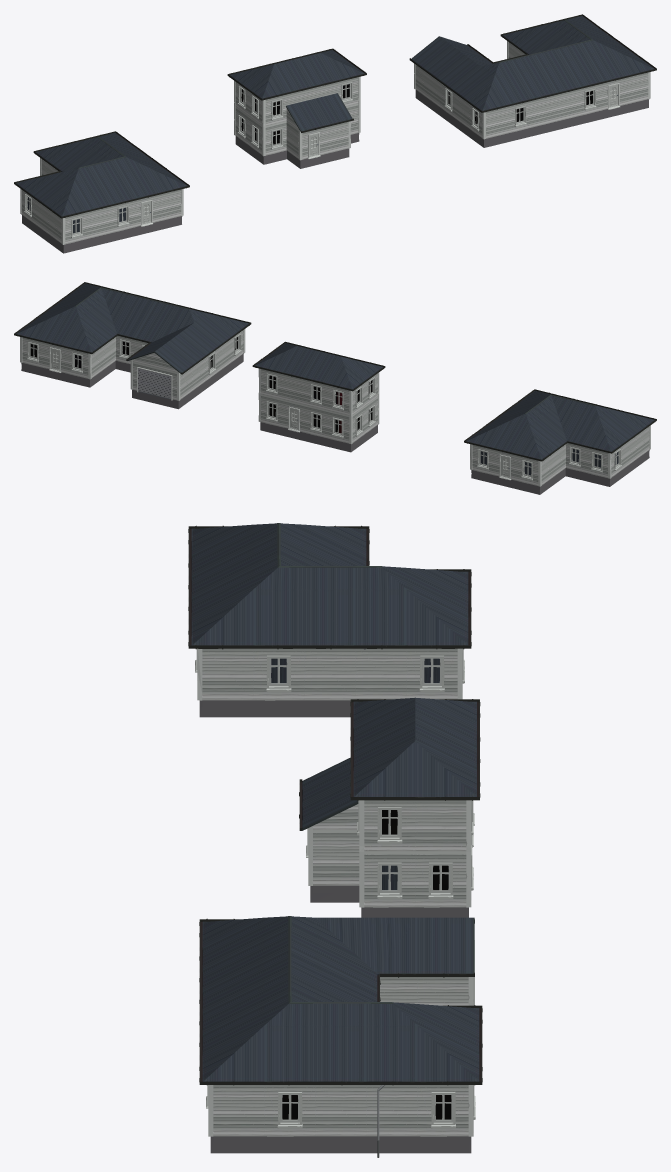
The model's file is suburbia-fixwindowuvs-only3-draco.glb.
3 renders of one model, top to bottom at view 1: azimuth 30°, elevation 25°; view 2: azimuth 150°, elevation 25°; view 3: azimuth 270°, elevation 25°, orthographic. The views are drawn at different scales.
Visible parts, largest first — view 1: SM_Bld_House_Preset_08_1809, SM_Bld_House_Preset_03_1800, SM_Bld_House_Preset_09_1845; view 2: SM_Bld_House_Preset_08_1809, SM_Bld_House_Preset_03_1800, SM_Bld_House_Preset_09_1845; view 3: SM_Bld_House_Preset_08_1809, SM_Bld_House_Preset_03_1800, SM_Bld_House_Preset_09_1845.
Part boxes in pixels (left/top/right/bottom): SM_Bld_House_Preset_08_1809: left=409, top=14, right=656, bottom=147; SM_Bld_House_Preset_03_1800: left=14, top=131, right=189, bottom=253; SM_Bld_House_Preset_09_1845: left=227, top=48, right=366, bottom=168; SM_Bld_House_Preset_08_1809: left=14, top=282, right=251, bottom=409; SM_Bld_House_Preset_03_1800: left=464, top=389, right=656, bottom=494; SM_Bld_House_Preset_09_1845: left=252, top=341, right=385, bottom=452; SM_Bld_House_Preset_08_1809: left=199, top=916, right=482, bottom=1157; SM_Bld_House_Preset_03_1800: left=188, top=523, right=471, bottom=717; SM_Bld_House_Preset_09_1845: left=299, top=697, right=480, bottom=917.
Size of the model in its own units: 64.43 by 8.67 by 14.41.
Materials: 1 (1 with a texture image).
